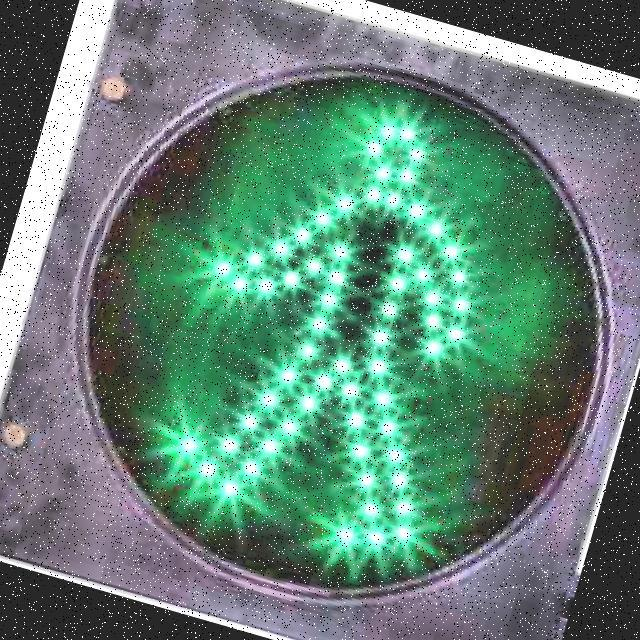green_light: (133, 61, 553, 586)
